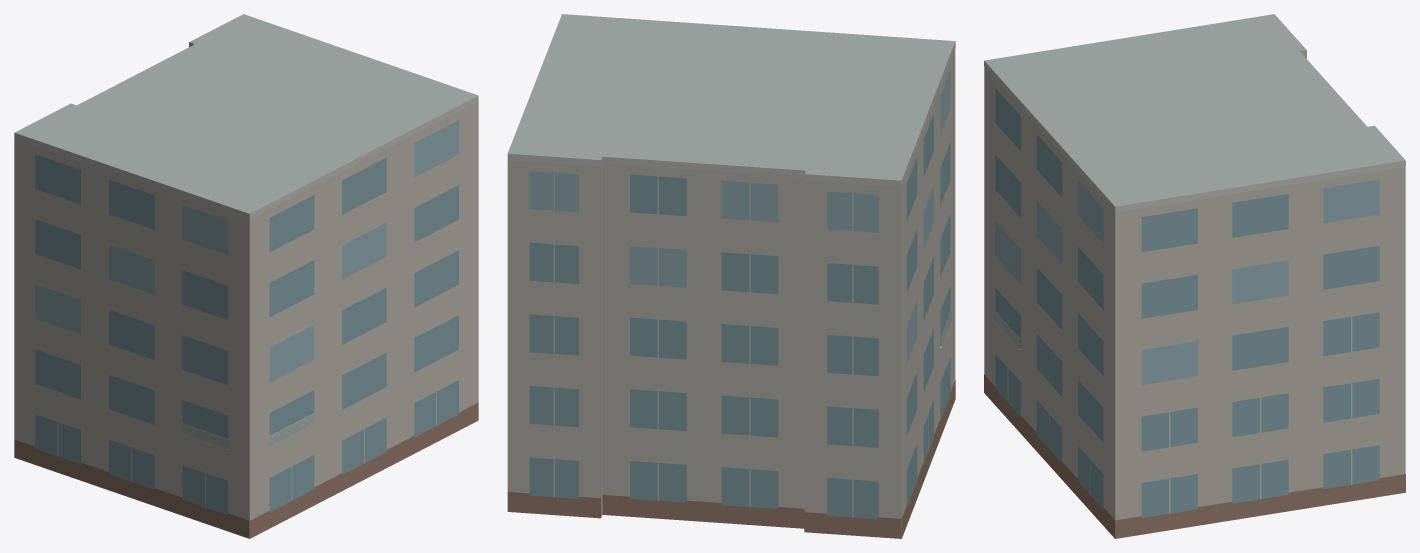
File: survey-upis-32524265.glb
3 views of the same model, side by side, from view 1: azimuth 30°, elevation 25°; view 2: azimuth 150°, elevation 25°; view 3: azimuth 270°, elevation 25° (orthographic). The views are drawn at different scales.
Parts seen in each view (by area): view 1: survey-upis-32524265.tmp; view 2: survey-upis-32524265.tmp; view 3: survey-upis-32524265.tmp.
Part boxes in pixels (x1,y1,x2,y2): survey-upis-32524265.tmp: [14, 14, 478, 538]; survey-upis-32524265.tmp: [507, 14, 955, 538]; survey-upis-32524265.tmp: [984, 14, 1405, 538].
Bounding box in the file's own units: 16.74 × 13.45 × 15.48.
